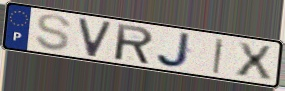I: (211, 37, 227, 76)
J: (155, 31, 194, 70)
R: (114, 22, 155, 66)
S: (33, 13, 73, 53)
V: (77, 16, 115, 59)
X: (234, 40, 274, 82)
